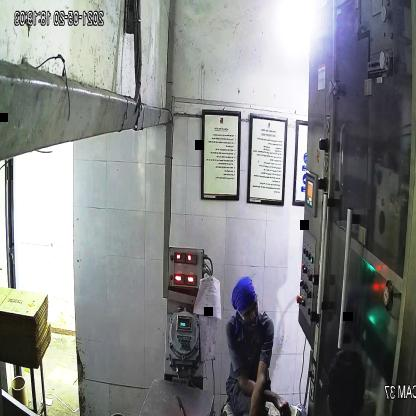goggles: (237, 301, 260, 324)
